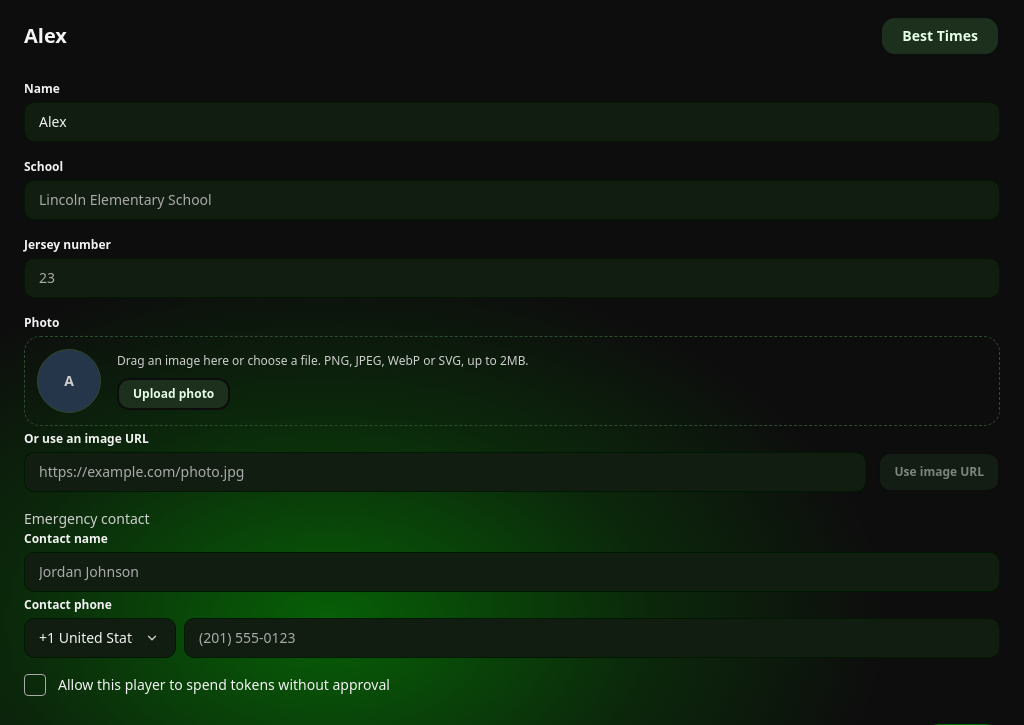
ProfileDetailPage › saves edits and updates the cached profile on success
Replace the text in the field labelled "Name" with "Alexander": (512, 122) [24,102,1000,142]
(page scrolled)
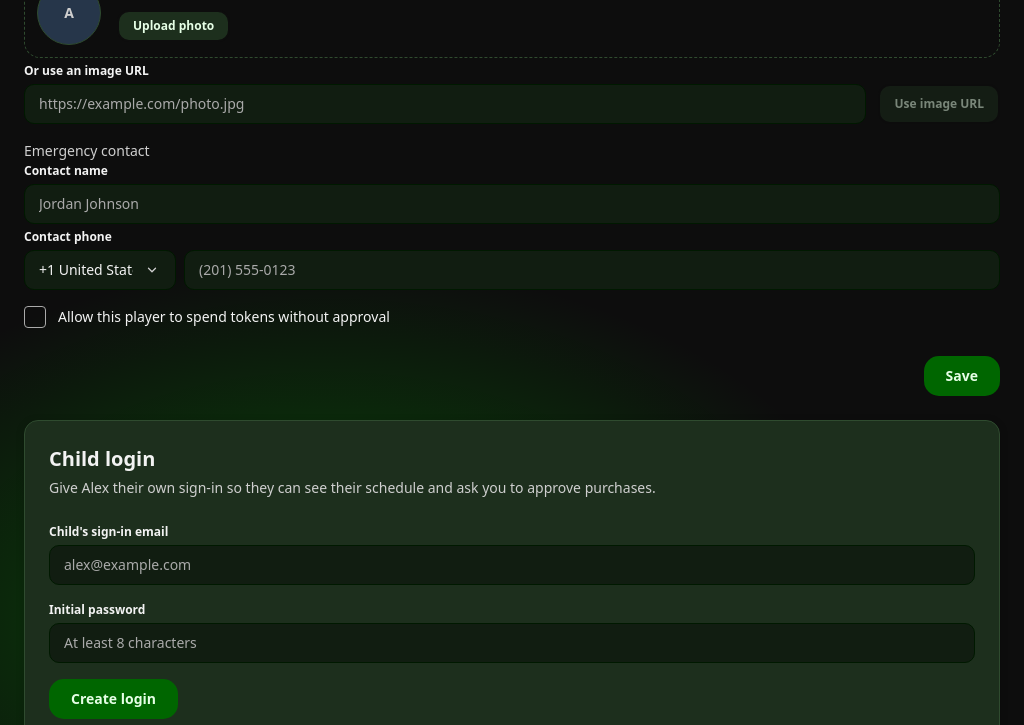
Click the button "Save": click(962, 376) [924,356,1000,396]
(page scrolled)
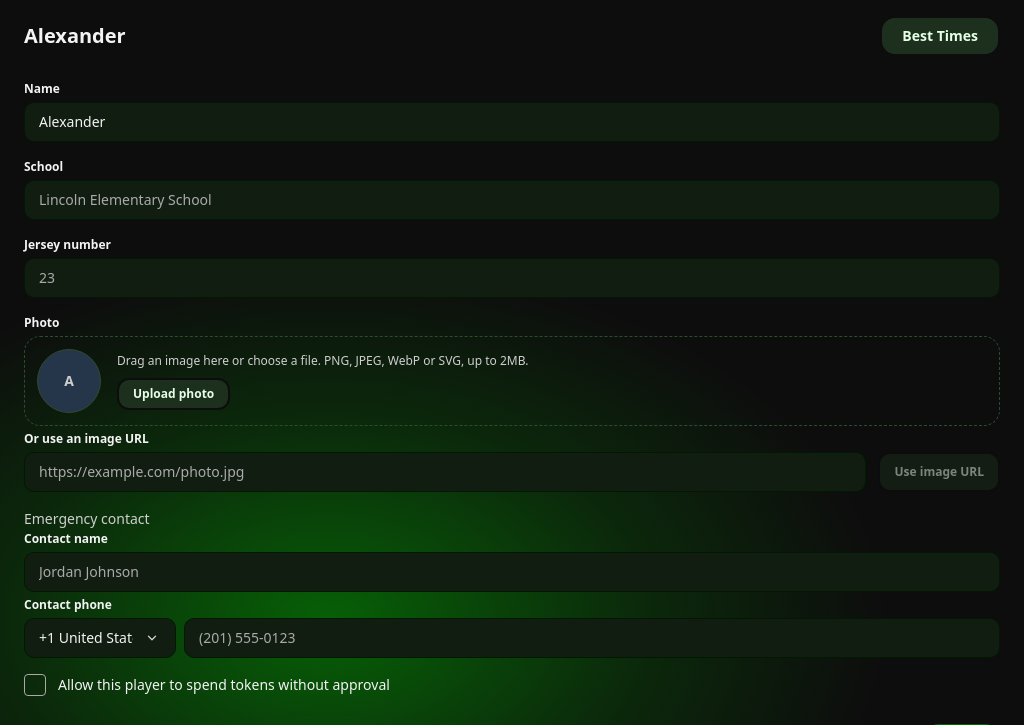
Expected: the heading "Alexander" is shown, [24,22,126,50]
